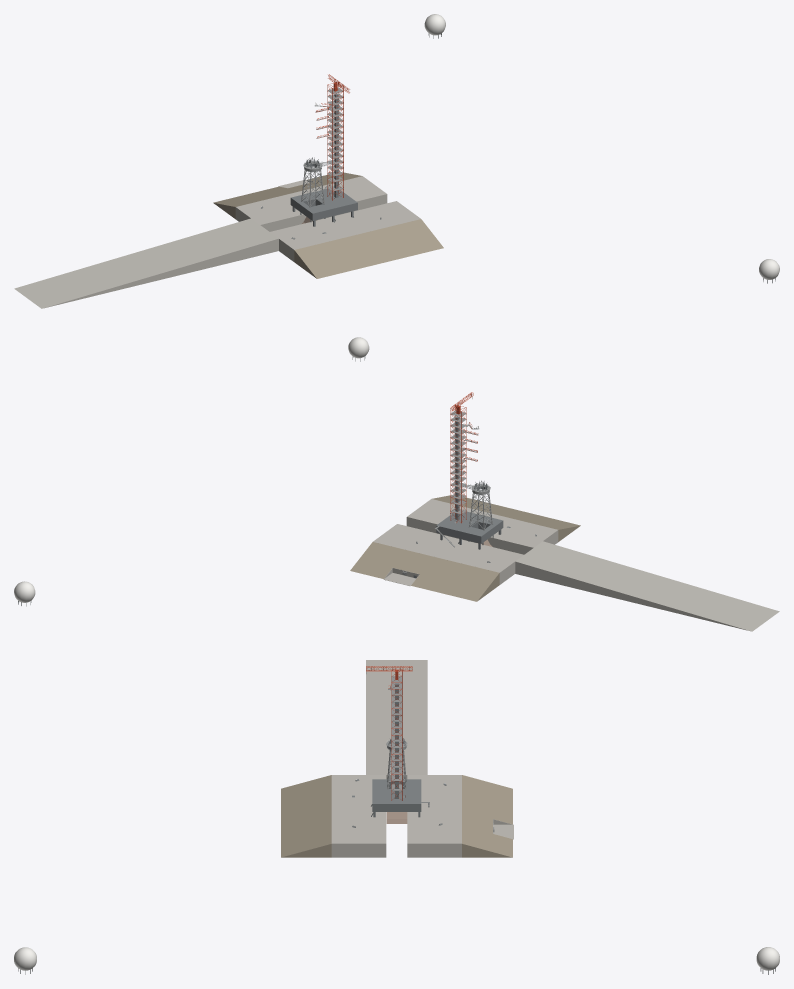
The model's file is pad-b-1973-07.lod2.glb.
3 renders of one model, top to bottom at view 1: azimuth 30°, elevation 25°; view 2: azimuth 150°, elevation 25°; view 3: azimuth 270°, elevation 25°, orthographic. The views are drawn at different scales.
Parts seen in each view (by area): view 1: Hardstand_Concrete, Hardstand_Earth, Launcher_Base_Steel, Umbilical_Tower_Deck, Umbilical_Tower_Red, Storage_Spheres_White; view 2: Hardstand_Concrete, Hardstand_Earth, Launcher_Base_Steel, Umbilical_Tower_Deck, Umbilical_Tower_Red, Storage_Spheres_White; view 3: Hardstand_Concrete, Hardstand_Earth, Launcher_Base_Steel, Umbilical_Tower_Deck, Storage_Spheres_White, Umbilical_Tower_Red.
Boxes of the visible parts, x1=… form: Hardstand_Concrete: x1=14, y1=176, x2=420, y2=308; Hardstand_Earth: x1=213, y1=172, x2=443, y2=278; Launcher_Base_Steel: x1=290, y1=189, x2=357, y2=220; Umbilical_Tower_Deck: x1=327, y1=87, x2=343, y2=191; Umbilical_Tower_Red: x1=327, y1=82, x2=343, y2=200; Storage_Spheres_White: x1=424, y1=14, x2=779, y2=279; Hardstand_Concrete: x1=373, y1=499, x2=779, y2=631; Hardstand_Earth: x1=350, y1=495, x2=580, y2=601; Launcher_Base_Steel: x1=436, y1=511, x2=503, y2=543; Umbilical_Tower_Deck: x1=450, y1=410, x2=468, y2=514; Umbilical_Tower_Red: x1=450, y1=405, x2=466, y2=523; Storage_Spheres_White: x1=14, y1=337, x2=369, y2=602; Hardstand_Concrete: x1=331, y1=660, x2=512, y2=857; Hardstand_Earth: x1=281, y1=775, x2=512, y2=857; Launcher_Base_Steel: x1=372, y1=779, x2=421, y2=811; Umbilical_Tower_Deck: x1=388, y1=676, x2=402, y2=790; Storage_Spheres_White: x1=14, y1=947, x2=779, y2=970; Umbilical_Tower_Red: x1=391, y1=669, x2=402, y2=800.
Size of the model in its own units: 630 by 149 by 644.
